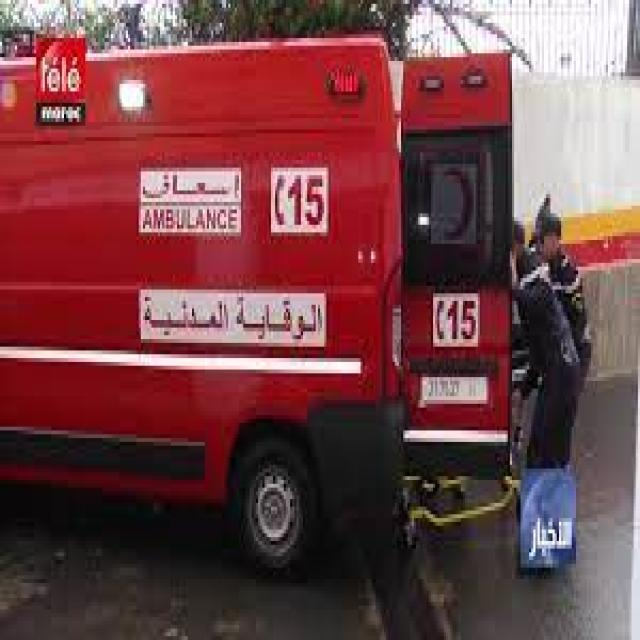ambulance: (4, 41, 510, 570)
